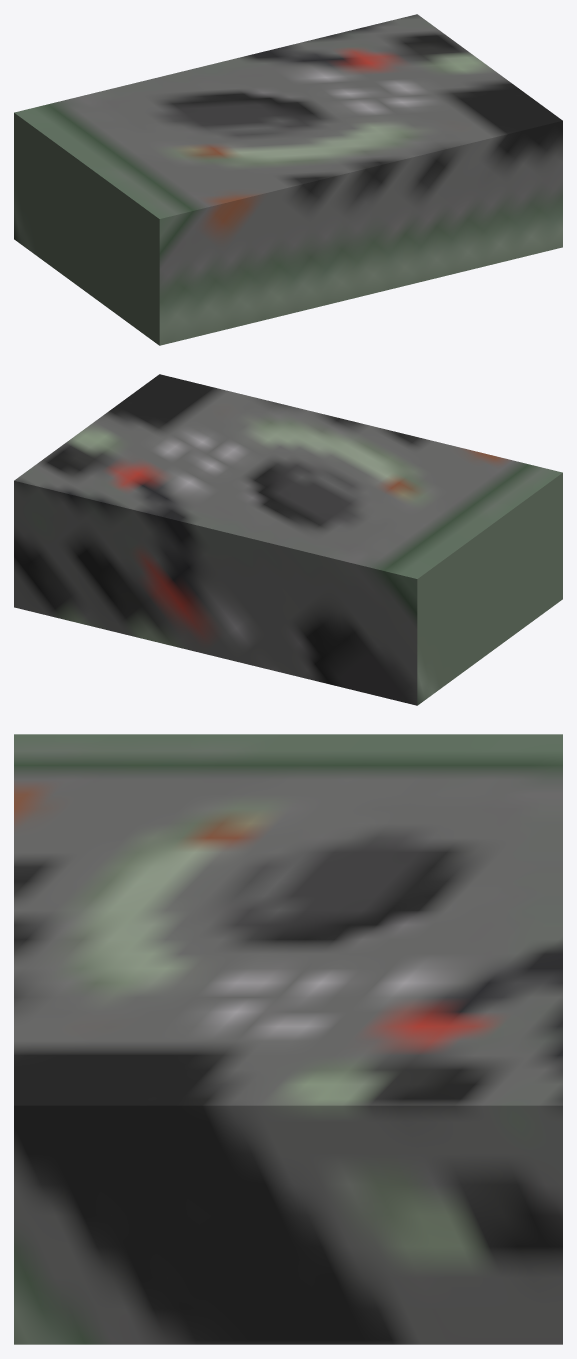
Rendered from pz_house_army_ham.obj.
3 renders of one model, top to bottom at view 1: azimuth 30°, elevation 25°; view 2: azimuth 150°, elevation 25°; view 3: azimuth 270°, elevation 25°, orthographic. The views are drawn at different scales.
Parts seen in each view (by area): view 1: pz_house_army_ham_|_1_caixa_painel_nativo; view 2: pz_house_army_ham_|_1_caixa_painel_nativo; view 3: pz_house_army_ham_|_1_caixa_painel_nativo.
Boxes of the visible parts, x1=… form: pz_house_army_ham_|_1_caixa_painel_nativo: x1=14, y1=14, x2=562, y2=345; pz_house_army_ham_|_1_caixa_painel_nativo: x1=14, y1=374, x2=562, y2=705; pz_house_army_ham_|_1_caixa_painel_nativo: x1=14, y1=734, x2=562, y2=1344.
Size of the model in its own units: 0.4 by 0.12 by 0.25.
1 material, 1 textured.
